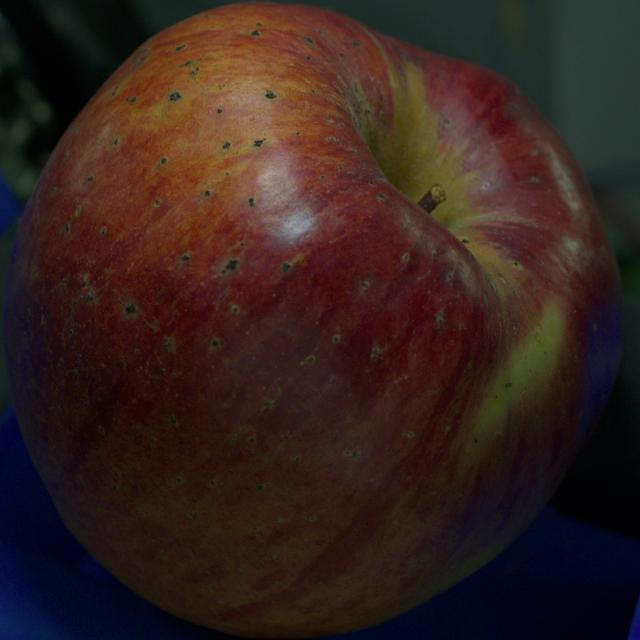apple: (5, 4, 622, 638)
pest: (226, 260, 239, 270), (169, 91, 181, 101), (281, 263, 291, 272), (304, 36, 314, 44), (125, 305, 136, 312), (265, 91, 276, 98), (251, 29, 260, 36), (254, 140, 264, 146), (204, 191, 210, 196)
